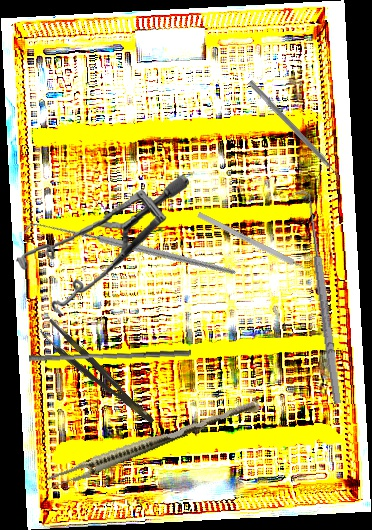Hook Surgical: (22, 144, 238, 358), (294, 189, 345, 406), (196, 211, 317, 277)
Pusher: (28, 343, 192, 368)
Spatula Surgical: (243, 79, 345, 185)
Speculum: (10, 174, 196, 319)
Tissue Forceps: (44, 391, 262, 495), (37, 317, 156, 434)
